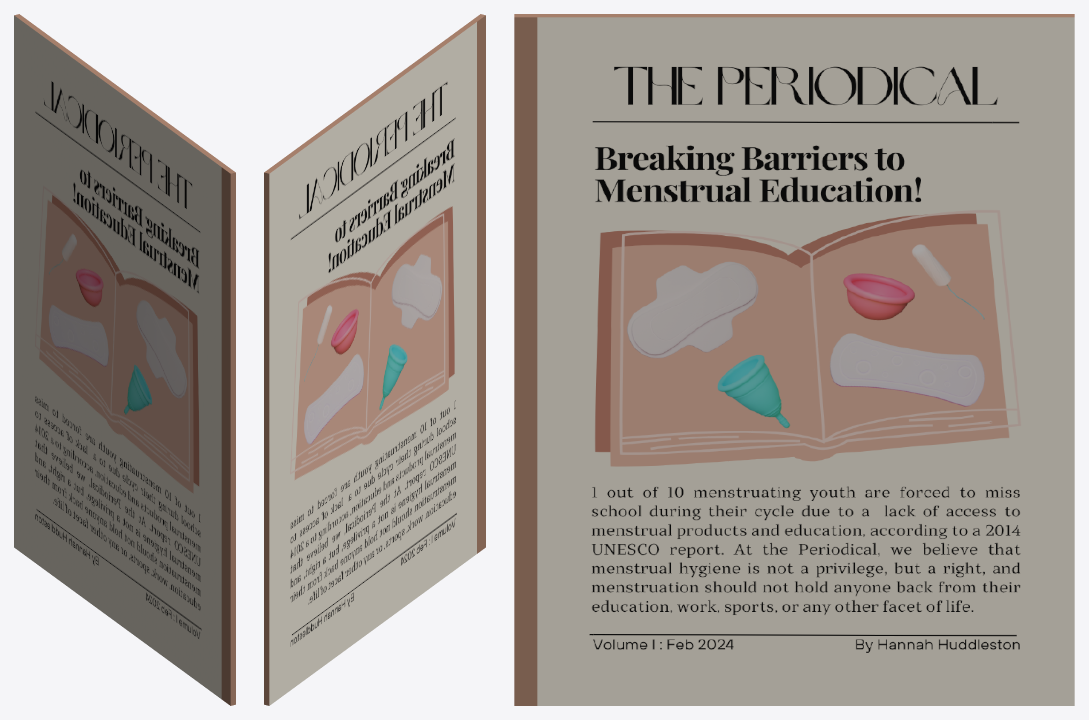
The model's file is Periodical2.fbx.
3 renders of one model, left to right at view 1: azimuth 30°, elevation 25°; view 2: azimuth 150°, elevation 25°; view 3: azimuth 270°, elevation 25°, orthographic. The views are drawn at different scales.
Parts seen in each view (by area): view 1: Black and Beige Modern Newspaper Inspired Elegant Fashion E; view 2: Black and Beige Modern Newspaper Inspired Elegant Fashion E; view 3: Black and Beige Modern Newspaper Inspired Elegant Fashion E.
Part boxes in pixels (x1,y1,x2,y2): Black and Beige Modern Newspaper Inspired Elegant Fashion E: [14, 14, 235, 705]; Black and Beige Modern Newspaper Inspired Elegant Fashion E: [264, 14, 485, 705]; Black and Beige Modern Newspaper Inspired Elegant Fashion E: [514, 14, 1074, 705].
Bounding box in the file's own units: 1.03 × 100 × 73.75.
Materials: 2 (1 with a texture image).
